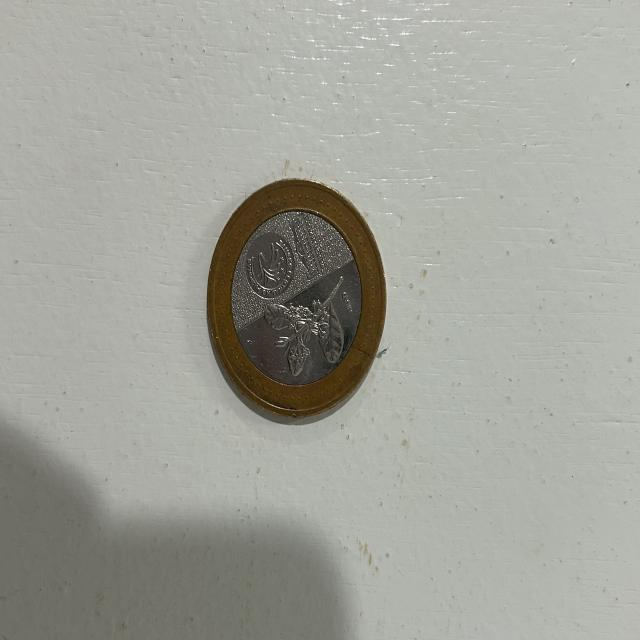20_New_Back: (254, 263, 354, 387)
